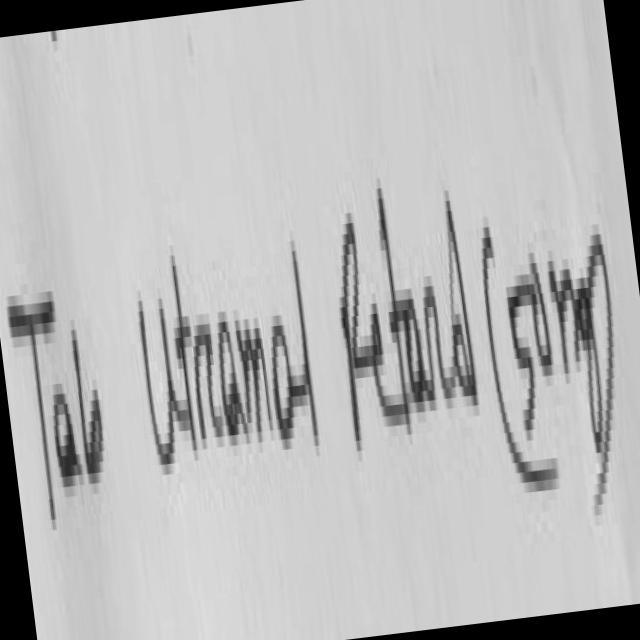0: (531, 252, 552, 375)
5: (509, 274, 536, 430)
R: (342, 212, 373, 435)
T: (7, 291, 54, 514)
a: (268, 315, 302, 461), (218, 311, 248, 435), (402, 288, 433, 402), (54, 384, 79, 481)
b: (71, 330, 99, 468)
d: (444, 191, 475, 407)
e: (369, 305, 406, 430)
g: (576, 277, 603, 437)
l: (293, 240, 309, 372), (306, 369, 318, 440)
m: (235, 325, 272, 431), (549, 260, 580, 373)
r: (421, 286, 455, 403), (195, 323, 222, 438)
t: (378, 188, 410, 419), (173, 255, 196, 444)
u: (138, 298, 188, 458)
